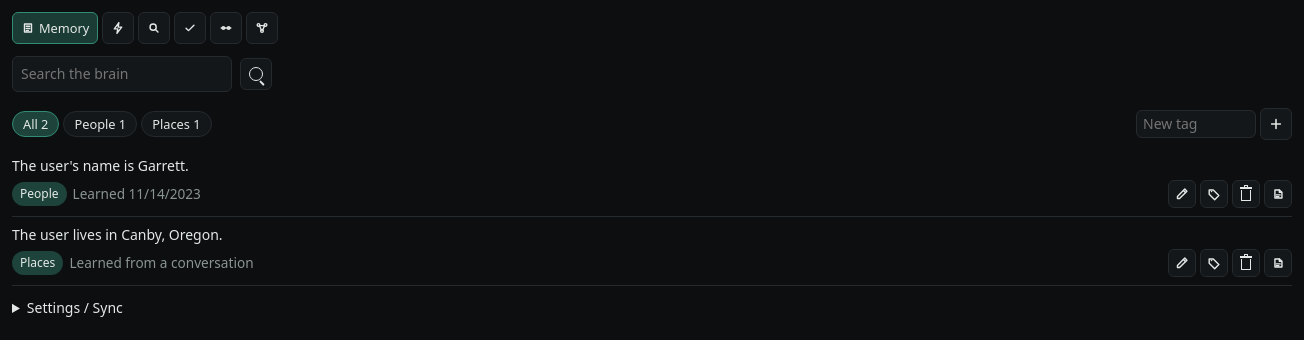
BrainMapView › opens a fact hit for edit and a conversation hit on the timeline
The image size is (1304, 340).
Expected: the text "The user's name is Garrett." is shown, [12, 156, 189, 175]
Click the tab named "Search" at [154, 28], box [138, 12, 170, 44]
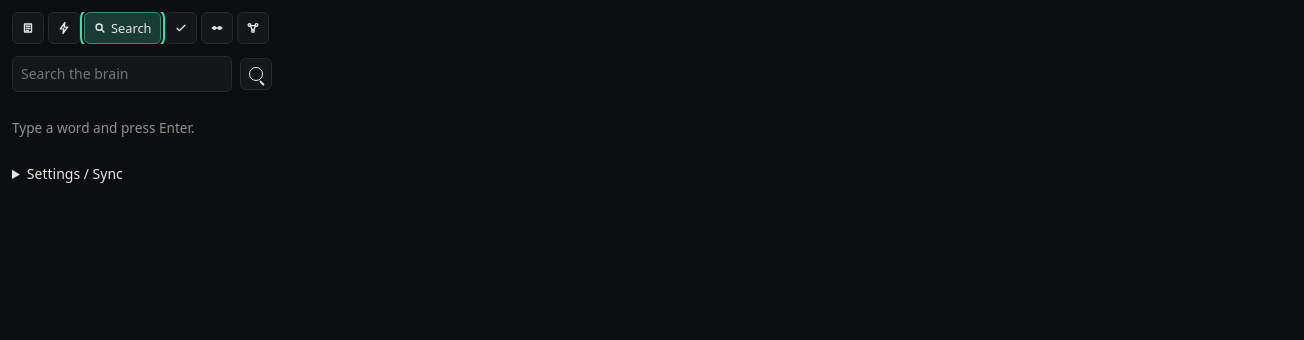
Type "Canby" into the search field labelled "Search the brain" at [122, 74], box [12, 56, 232, 92]
Click the button named "Search" at [256, 74], box [240, 58, 272, 90]
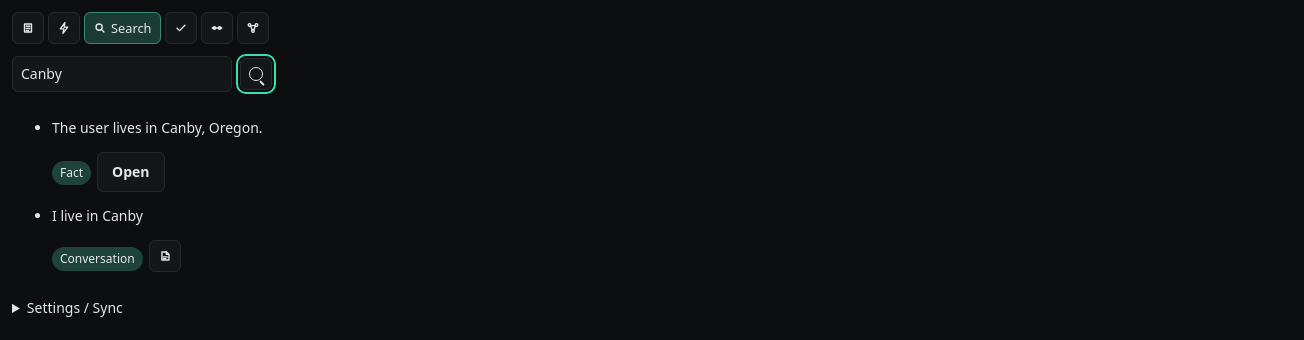
Click the button with aria-label "Open fact" at [131, 172], box [97, 152, 165, 192]
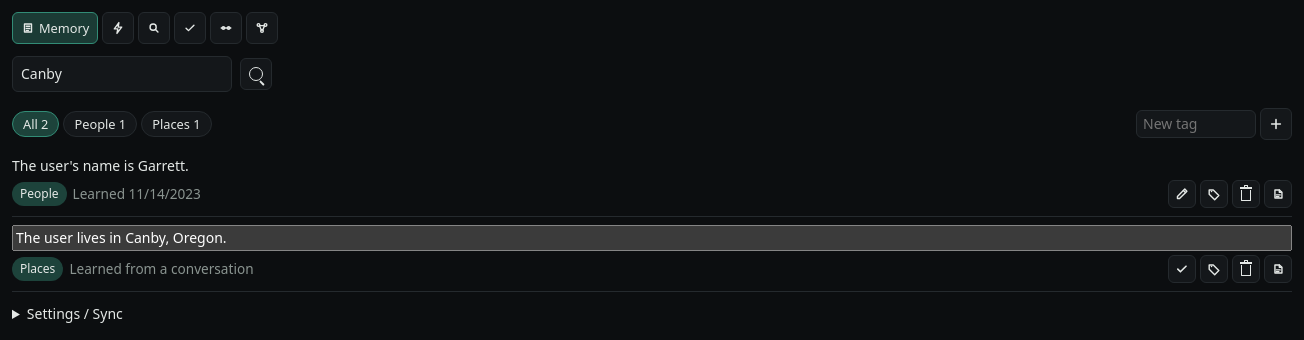
Expected: the field showing "The user lives in Canby, Oregon." is shown, [12, 225, 1292, 251]
Click the tab named "Search" at [154, 28], box [138, 12, 170, 44]
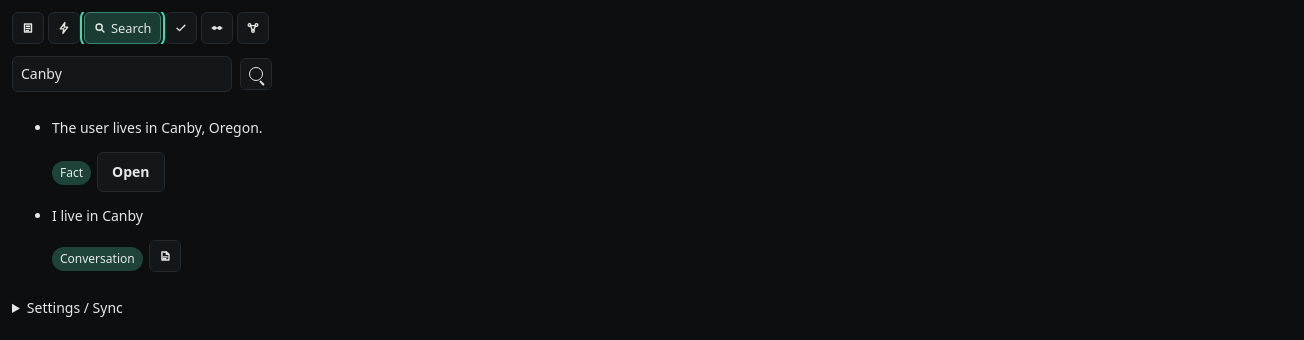
Click the button named "Search" at [256, 74], box [240, 58, 272, 90]
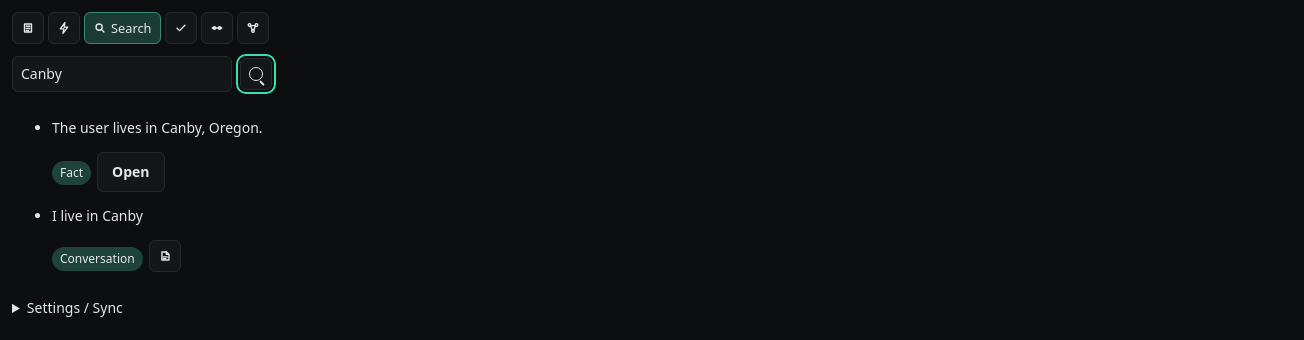
Click the button named "View source" at [165, 256], box [149, 240, 181, 272]
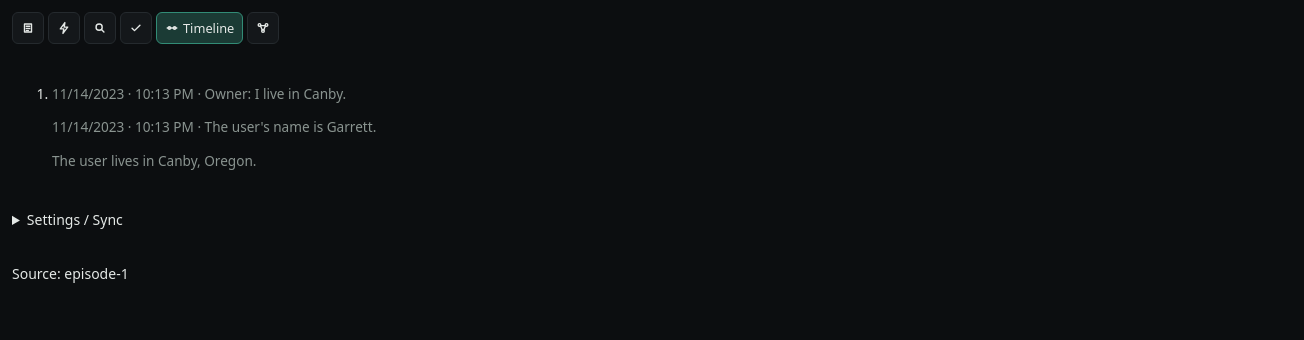
Expected: the text "Source: episode-1" is shown, [12, 264, 129, 283]
